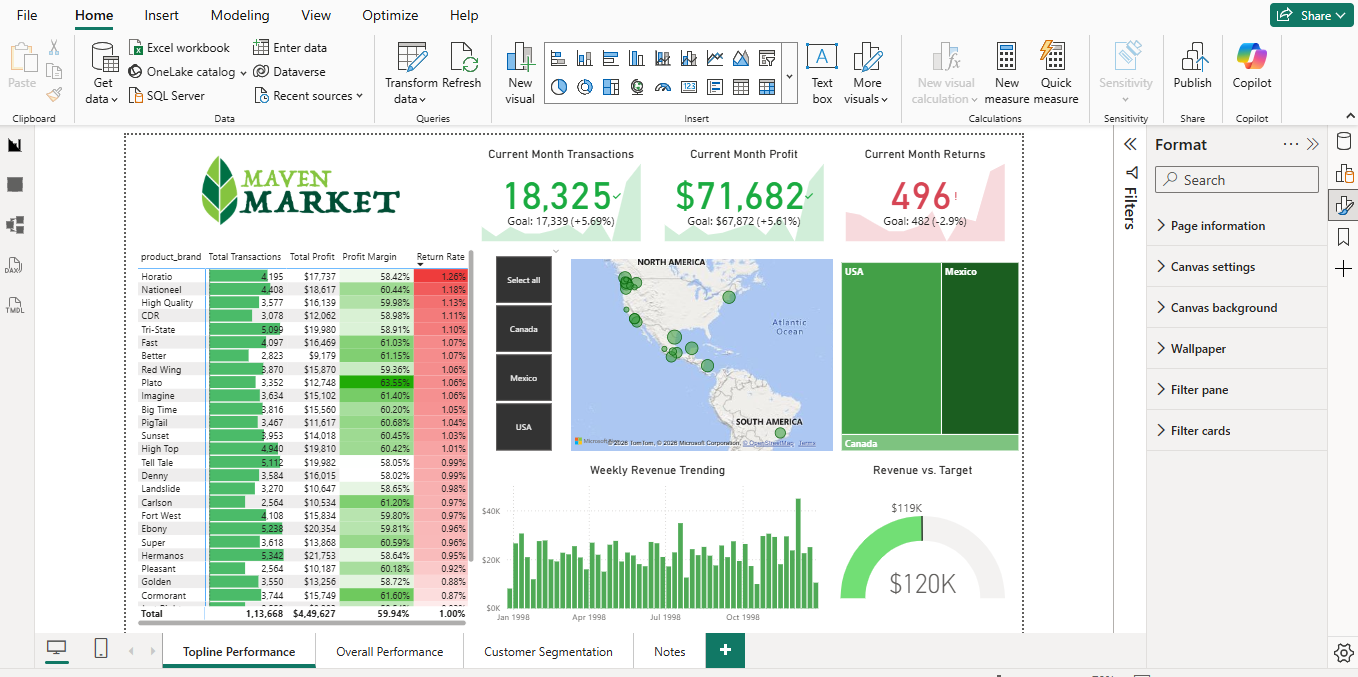

Layout of this report page (visuals, bound fields, positions):
{"tool":"powerbi","page":{"name":"Topline Performance","canvas":[1280,720],"ordinal":0},"visuals":[{"type":"image","box":[22.5,17.5,450,122.5],"z":0},{"type":"pivotTable","fields":{"Rows":["Products.product_brand"],"Values":["Measures Table.Total Transactions","Measures Table.Total Profit","Measures Table.Profit Margin %","Measures Table.Return Rate"]},"box":[11.6,158,491.3,547.8],"z":1000},{"type":"kpi","title":"Current Month Transactions","fields":{"Indicator":["Measures Table.Total Transactions"],"TrendLine":["Calendar.Start of Month"],"Goal":["Measures Table.Last Month Transactions"]},"box":[502.5,17.5,237.5,140],"z":2000},{"type":"kpi","title":"Current Month Returns","fields":{"TrendLine":["Calendar.Start of Month"],"Indicator":["Measures Table.Total Returns"],"Goal":["Measures Table.Last Month Returns"]},"box":[1022.5,17.5,237.5,140],"z":3000},{"type":"kpi","title":"Current Month Profit","fields":{"TrendLine":["Calendar.Start of Month"],"Indicator":["Measures Table.Total Profit"],"Goal":["Measures Table.Last Month Profit"]},"box":[763.8,17.5,237.5,140],"z":4000},{"type":"map","fields":{"Category":["Stores.store_city"],"Size":["Measures Table.Total Transactions"]},"box":[631.9,172.5,384.1,284.1],"z":5000},{"type":"slicer","fields":{"Values":["Stores.store_country"]},"box":[502.9,158,129,298.6],"z":6000},{"type":"treemap","fields":{"Group":["Stores.store_country","Stores.store_state","Stores.store_city"],"Values":["Measures Table.Total Transactions"]},"box":[1015.9,176.8,263.8,279.7],"z":7000},{"type":"columnChart","title":"Weekly Revenue Trending","fields":{"Y":["Measures Table.Total Revenue"],"Category":["Calendar.Start of Week"]},"box":[502.9,468.1,513,237.7],"z":8000},{"type":"gauge","title":"Revenue vs. Target","fields":{"Y":["Measures Table.Total Revenue"],"TargetValue":["Measures Table.Revenue Target"]},"box":[1015.9,468.1,244.9,218.8],"z":9000}]}

Visuals, with their boxes on the page's 1280x720 design canvas (x1, y1, x2, y2). These are canvas units, not pixel positions in the 1358x677 screenshot, which may show the page scaled, cropped or inside an application window:
image: [22,18,472,140]
pivotTable - Products.product_brand x Measures Table.Total Transactions: [12,158,503,706]
"Current Month Transactions" kpi: [502,18,740,158]
"Current Month Returns" kpi: [1022,18,1260,158]
"Current Month Profit" kpi: [764,18,1001,158]
map - Stores.store_city x Measures Table.Total Transactions: [632,172,1016,457]
slicer - Stores.store_country: [503,158,632,457]
treemap - Stores.store_country x Stores.store_state: [1016,177,1280,456]
"Weekly Revenue Trending" columnChart: [503,468,1016,706]
"Revenue vs. Target" gauge: [1016,468,1261,687]
